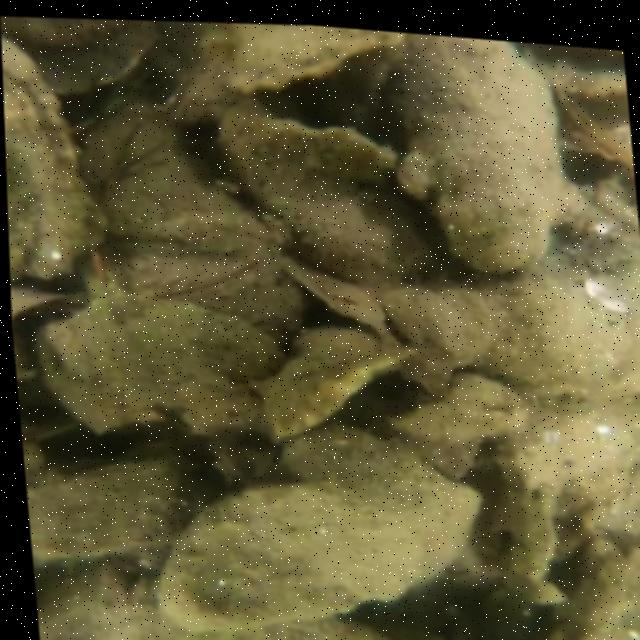Oyster-Closed: (1, 35, 110, 283)
Oyster-Indeterminate: (162, 423, 480, 629), (81, 110, 300, 345), (385, 35, 578, 271), (25, 289, 290, 433), (220, 113, 425, 285), (186, 23, 404, 109), (262, 346, 422, 448), (267, 114, 406, 189), (384, 372, 519, 441), (383, 288, 497, 365), (580, 551, 640, 640)
Oyster-Open: (26, 439, 195, 562)
